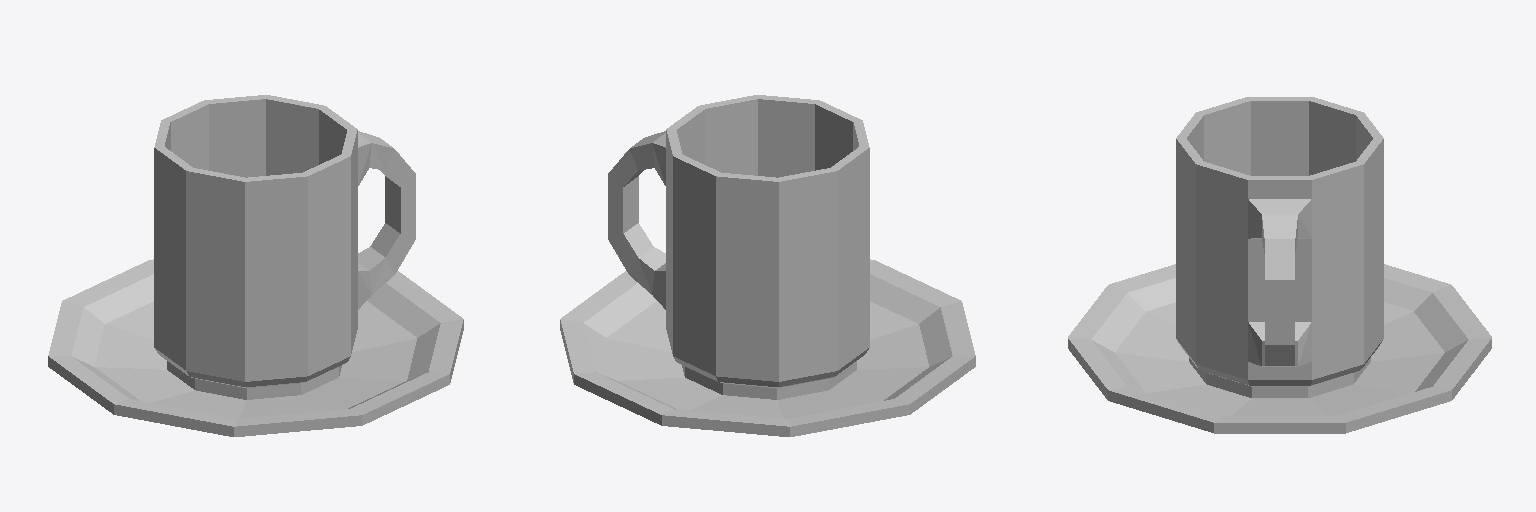
Rendered from coffee.obj.
The picture shows the model from 3 angles: view 1: azimuth 30°, elevation 25°; view 2: azimuth 150°, elevation 25°; view 3: azimuth 270°, elevation 25°; orthographic projection.
Visible parts, largest first — view 1: Circle_Circle.003; view 2: Circle_Circle.003; view 3: Circle_Circle.003.
Boxes of the visible parts, box(x1,y1,x2,y2) form: Circle_Circle.003: box(48, 95, 463, 436); Circle_Circle.003: box(560, 95, 975, 436); Circle_Circle.003: box(1068, 97, 1491, 433).
Size of the model in its own units: 1.78 by 1.14 by 1.87.